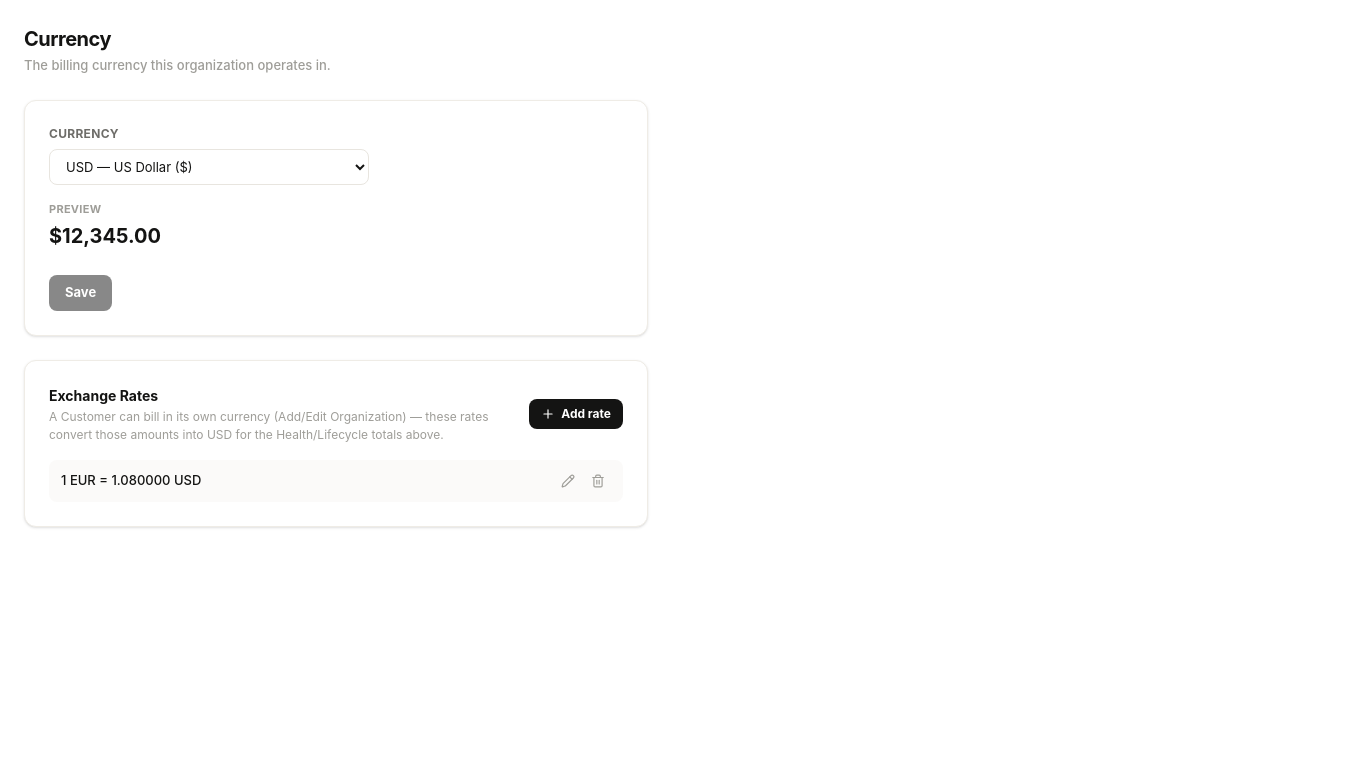
CurrencyPage › Exchange Rates › deleting a rate removes it after confirming
This screenshot has width=1366, height=768.
Expected: the text "1 EUR = 1.080000 USD" is shown, [61,471,201,490]
Click the button named "Delete rate for EUR". click: (598, 480)
box: [585,468,611,494]
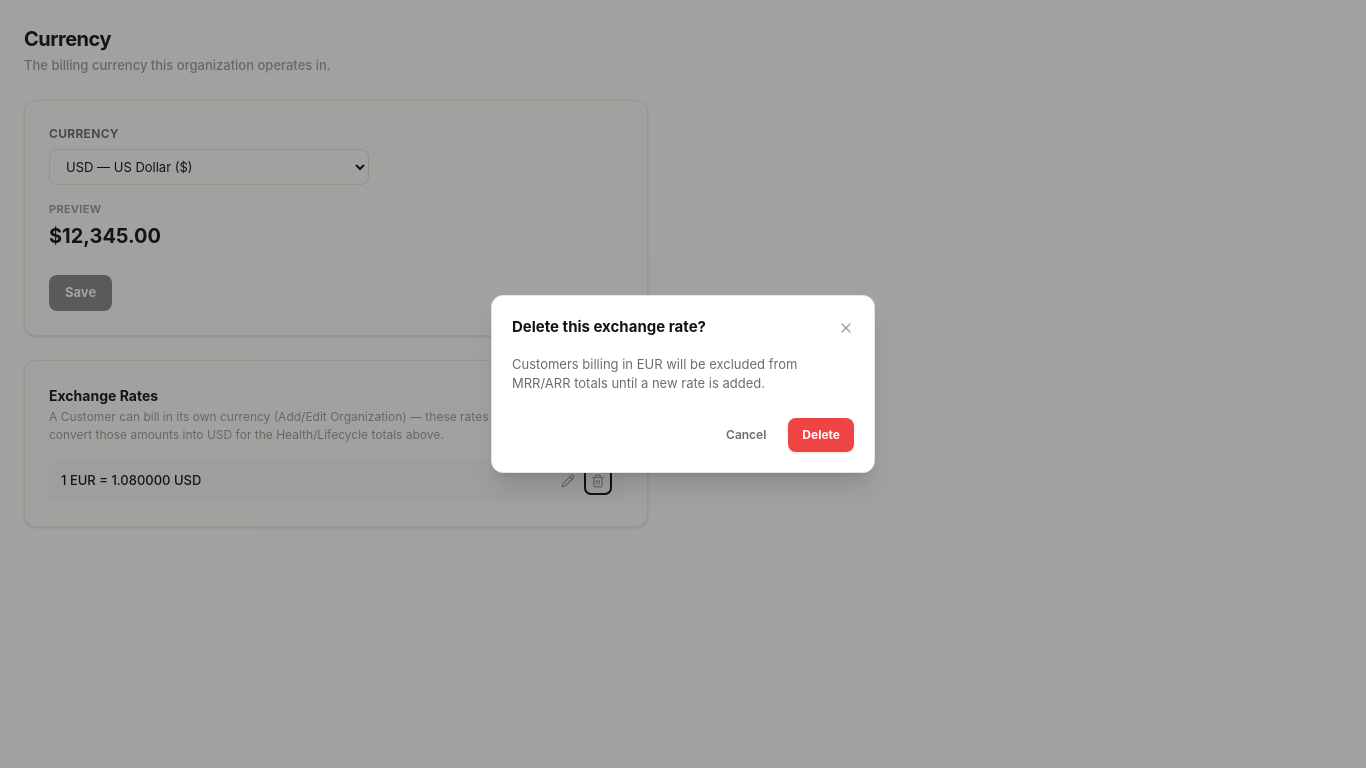
Click the button "Delete". click: (821, 435)
box: [788,418,854,452]
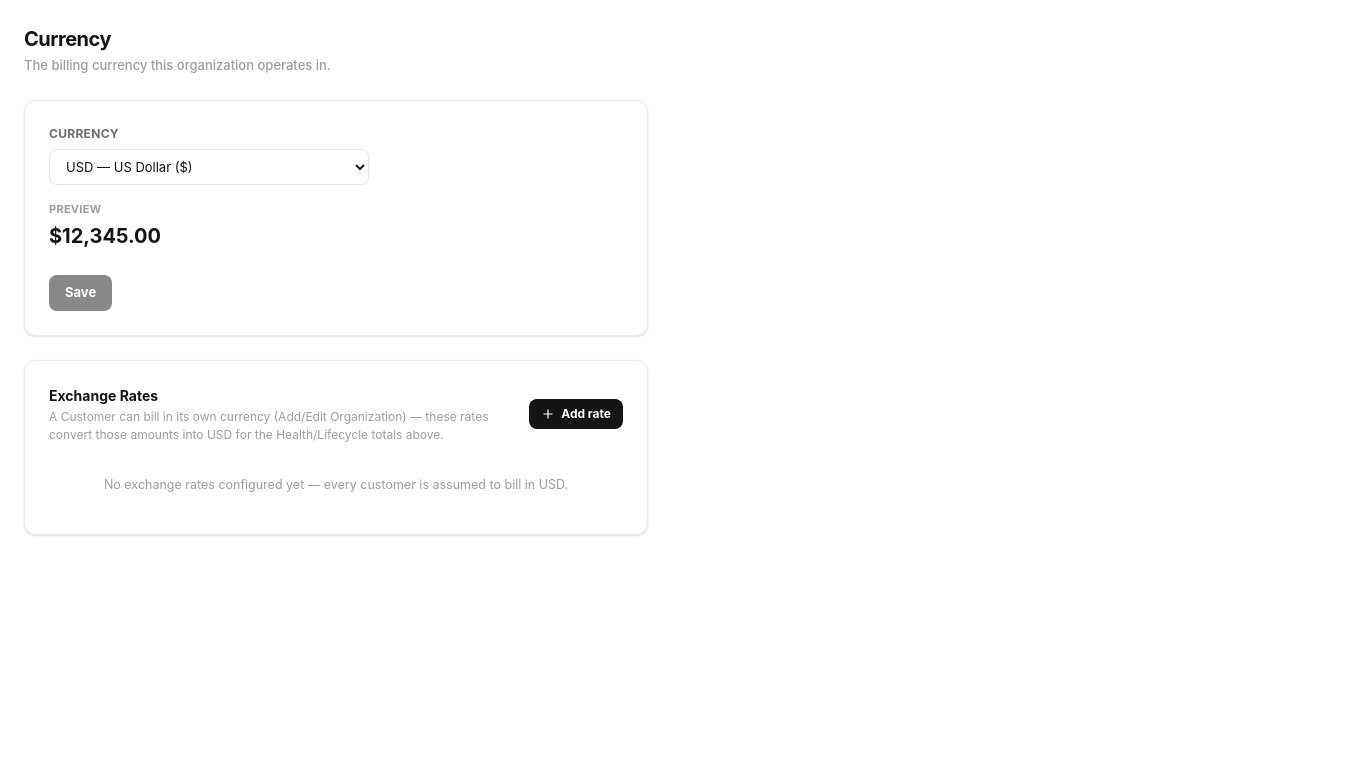
Expected: the text "every customer is assumed to bill in USD" is shown, [104,476,568,492]
